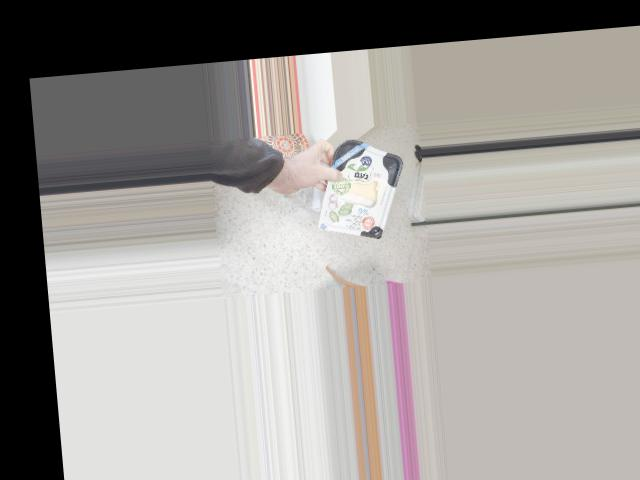cheese: (320, 140, 395, 241)
